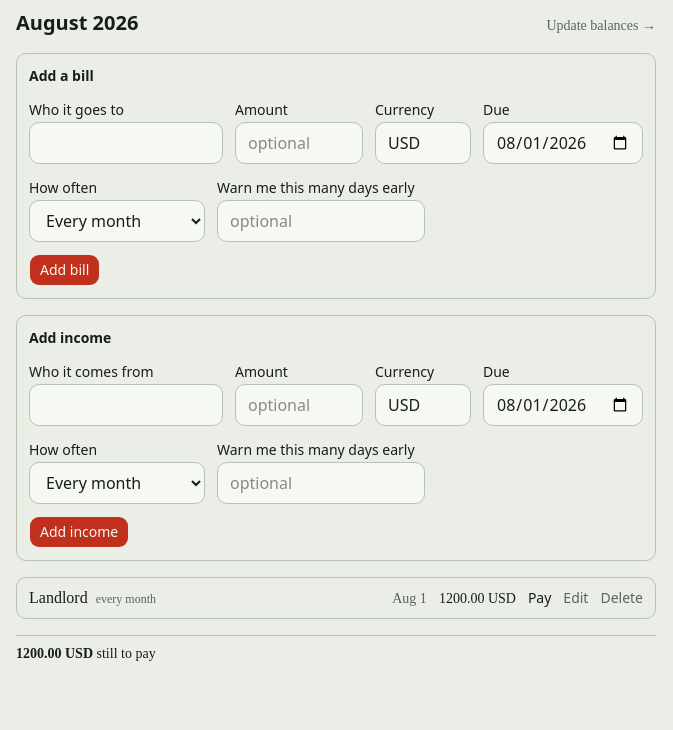
it: MoneyRoute › shows the server's own words when a payee collides
Type "Amazon" into the field labelled "Who it goes to" at [126, 143], box [29,122,223,164]
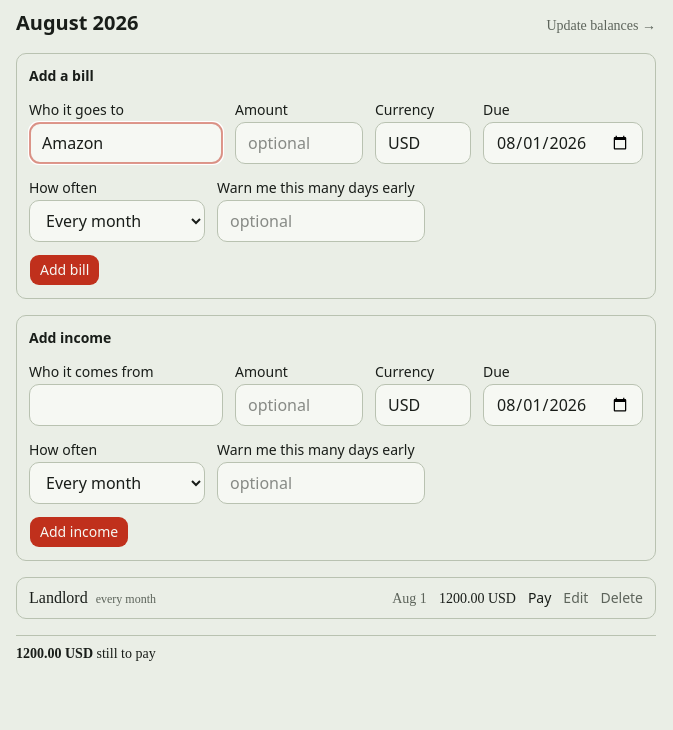
Click the button "Add bill" at [65, 270], box [29,254,100,286]
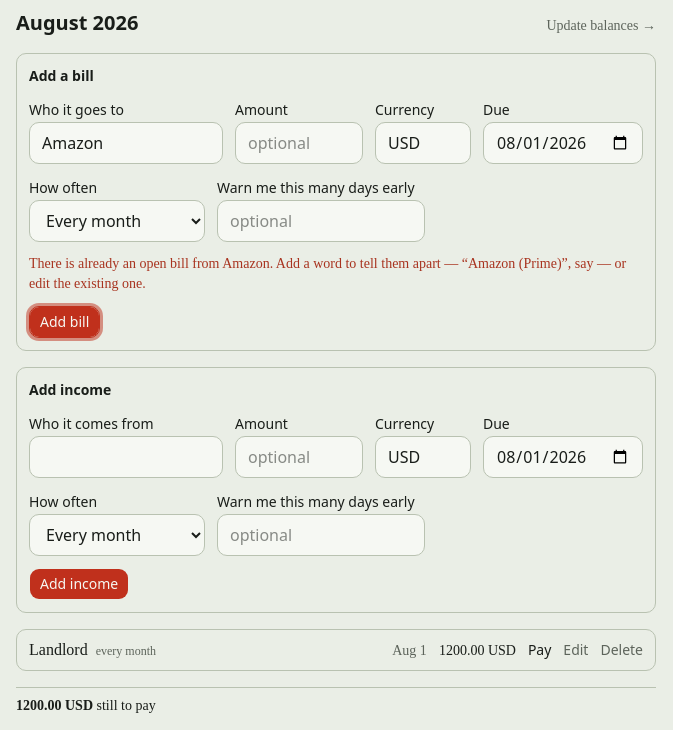
Expected: the text "Amazon (Prime)" is shown, [29,256,626,291]
